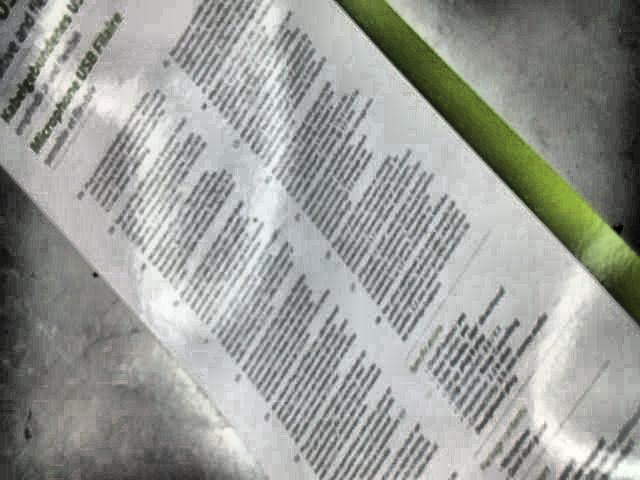Paper: (0, 3, 640, 480)
